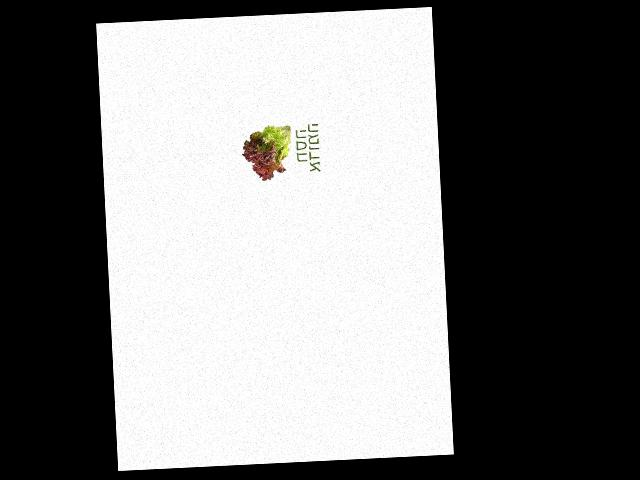lettuce: (240, 119, 295, 183)
